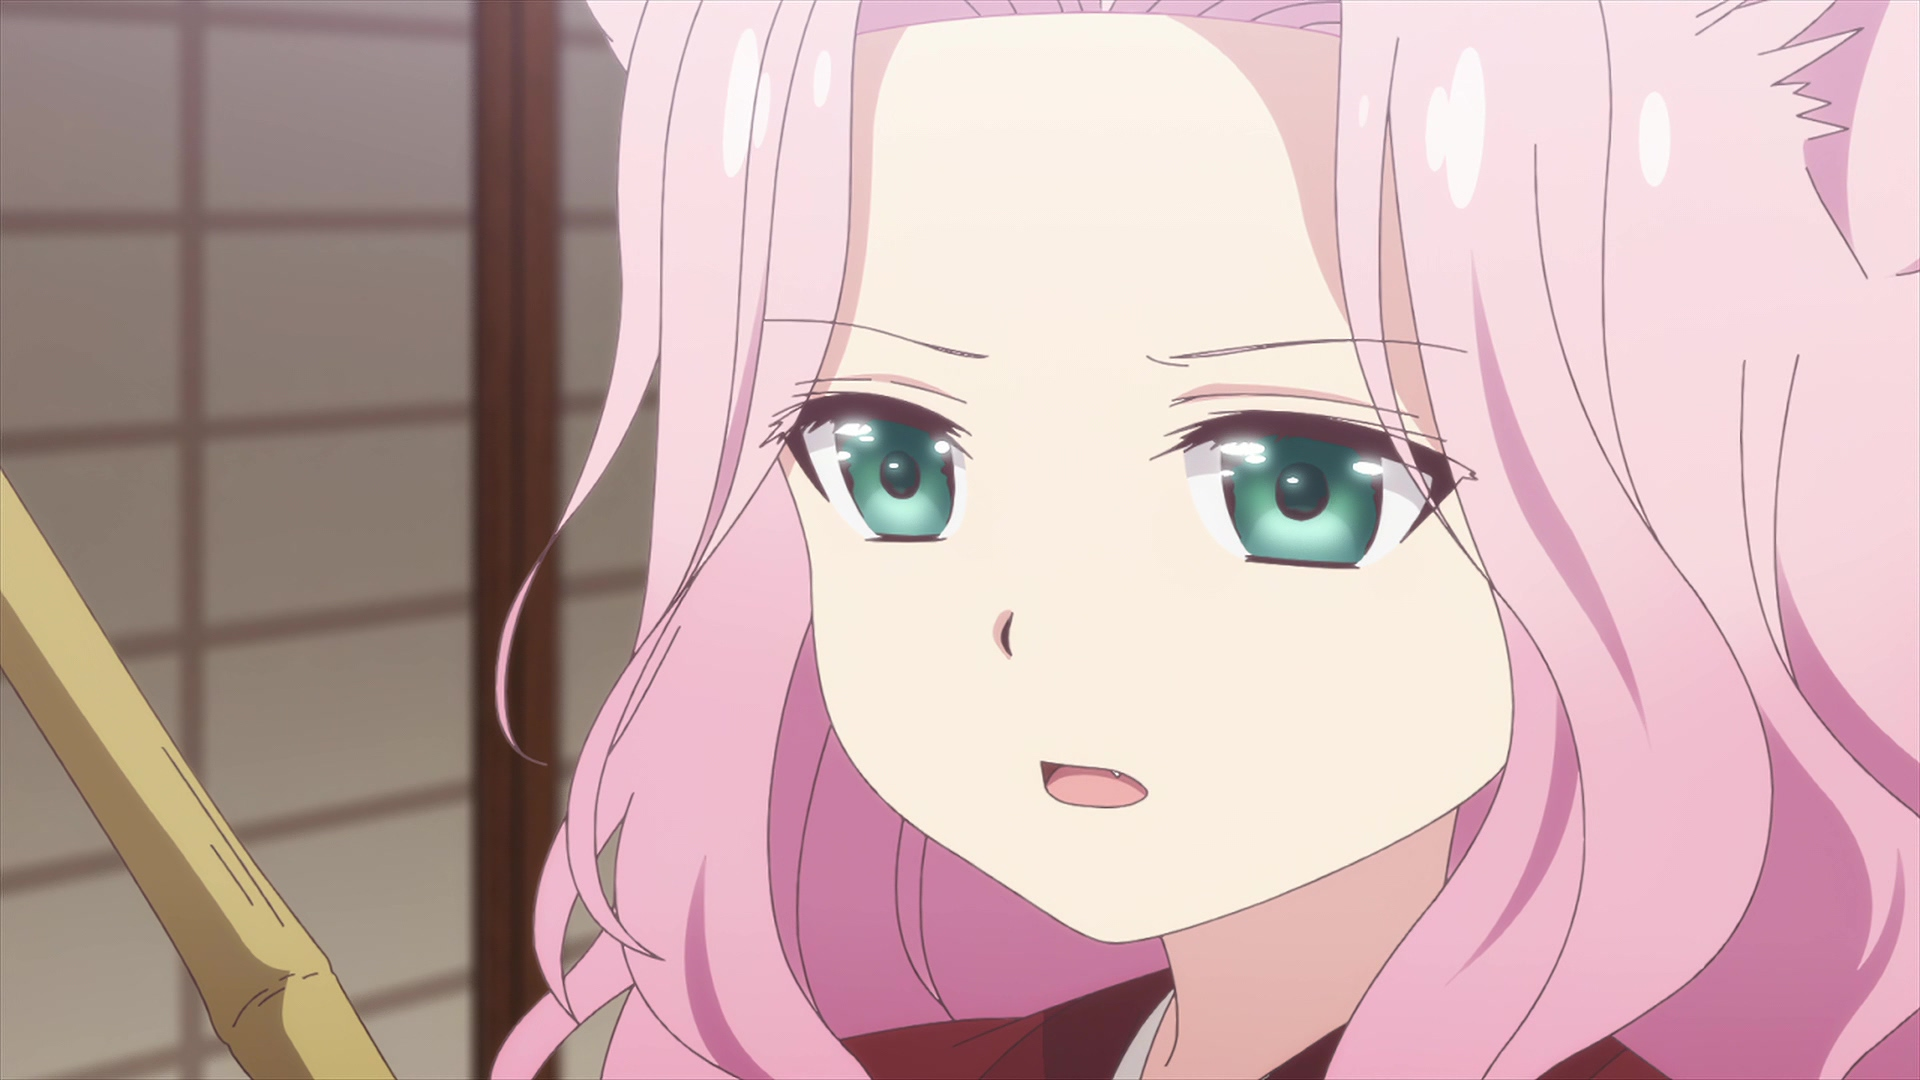莲: (483, 1, 1920, 1080)
